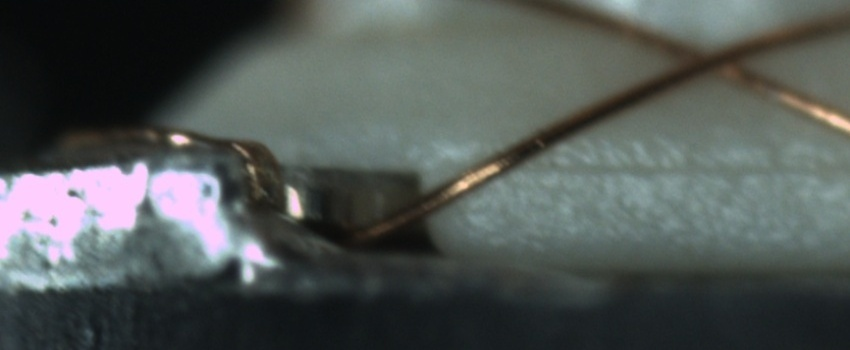CL: (663, 26, 760, 89)
DL: (463, 134, 850, 198)
TE: (61, 126, 294, 211)
